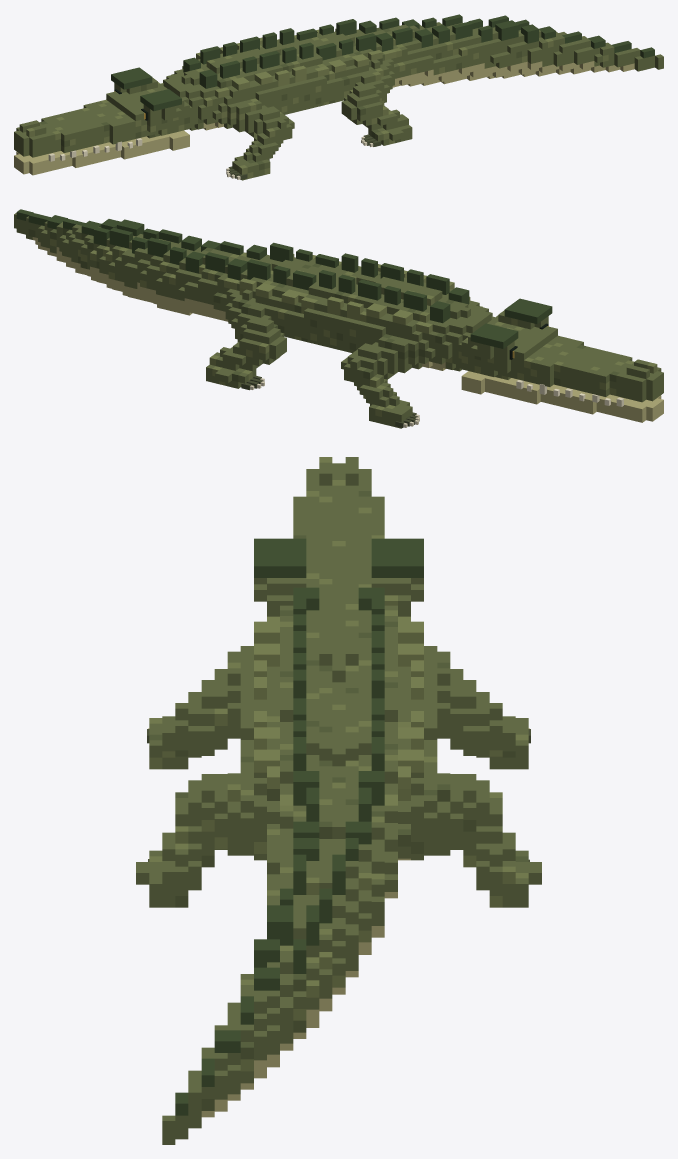
File: Tidefang.glb
The picture shows the model from 3 angles, top to bottom: view 1: azimuth 30°, elevation 25°; view 2: azimuth 150°, elevation 25°; view 3: azimuth 270°, elevation 25°; orthographic projection. The views are drawn at different scales.
Parts seen in each view (by area): view 1: Pelagem e anatomia, Cauda longa, Placas do dorso, Maxilar superior, Crista da cauda, Mandibula inferior, Orbitas elevadas, Patas, Narinas elevadas; view 2: Pelagem e anatomia, Cauda longa, Placas do dorso, Maxilar superior, Crista da cauda, Mandibula inferior, Orbitas elevadas, Patas, Narinas elevadas; view 3: Pelagem e anatomia, Cauda longa, Placas do dorso, Crista da cauda, Maxilar superior, Orbitas elevadas, Patas.
Boxes of the visible parts, bbox=[...] form: Pelagem e anatomia: bbox=[147, 29, 408, 161]; Cauda longa: bbox=[376, 22, 663, 87]; Placas do dorso: bbox=[182, 19, 396, 98]; Maxilar superior: bbox=[14, 82, 189, 157]; Crista da cauda: bbox=[379, 14, 654, 58]; Mandibula inferior: bbox=[14, 130, 189, 175]; Orbitas elevadas: bbox=[111, 67, 184, 125]; Patas: bbox=[232, 125, 412, 180]; Narinas elevadas: bbox=[19, 120, 46, 137]; Pelagem e anatomia: bbox=[209, 254, 510, 407]; Cauda longa: bbox=[14, 213, 246, 321]; Placas do dorso: bbox=[224, 242, 470, 333]; Maxilar superior: bbox=[461, 315, 663, 402]; Crista da cauda: bbox=[16, 209, 243, 273]; Mandibula inferior: bbox=[461, 371, 663, 422]; Orbitas elevadas: bbox=[468, 298, 552, 364]; Patas: bbox=[206, 364, 412, 428]; Narinas elevadas: bbox=[626, 359, 657, 378]; Pelagem e anatomia: bbox=[162, 588, 515, 890]; Cauda longa: bbox=[162, 794, 410, 1144]; Placas do dorso: bbox=[254, 587, 423, 805]; Crista da cauda: bbox=[175, 787, 371, 1115]; Maxilar superior: bbox=[267, 463, 410, 616]; Orbitas elevadas: bbox=[254, 538, 423, 601]; Patas: bbox=[136, 718, 541, 907].
Bounding box in the file's own units: 6.36 × 0.84 × 1.86.
